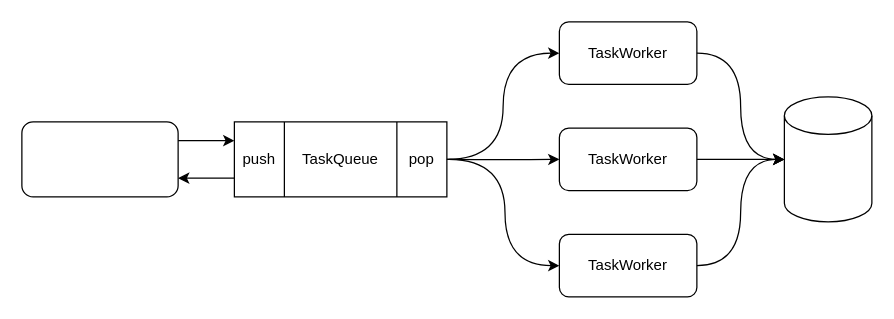
Image size: 894x319. Some labels were removed from this diagram. Each missing label, with the centre of its shape:
Cache: [827,159]
trigger: [99,159]
